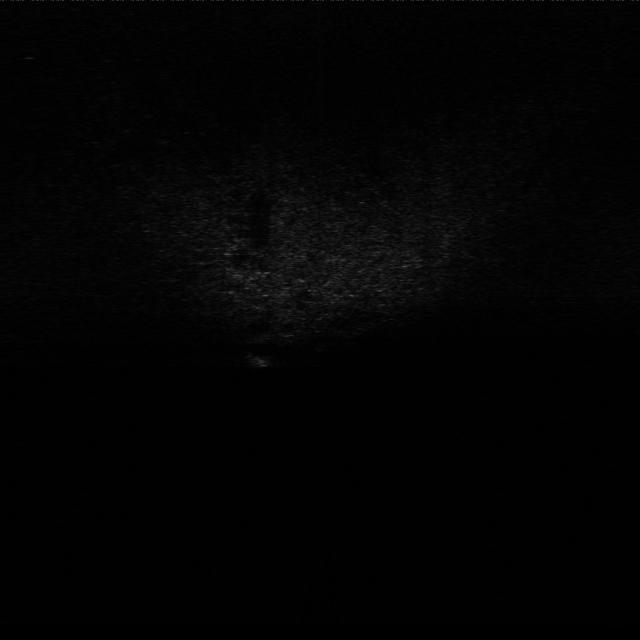cube: (246, 352, 276, 370)
